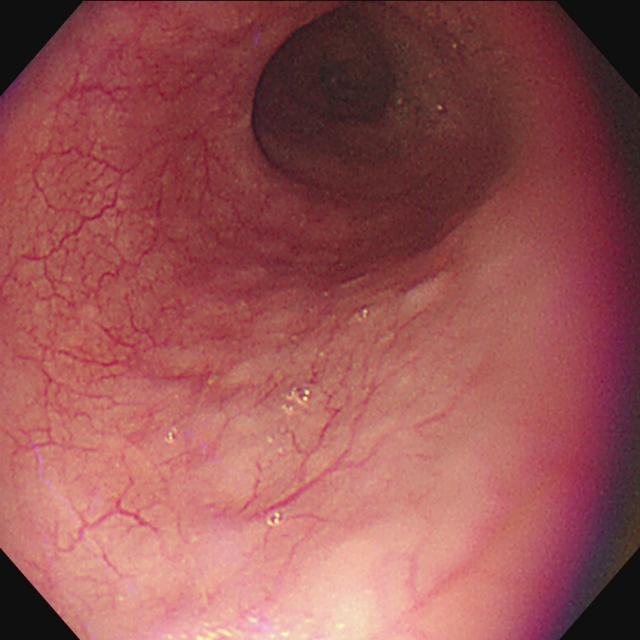E: (258, 18, 398, 171)
